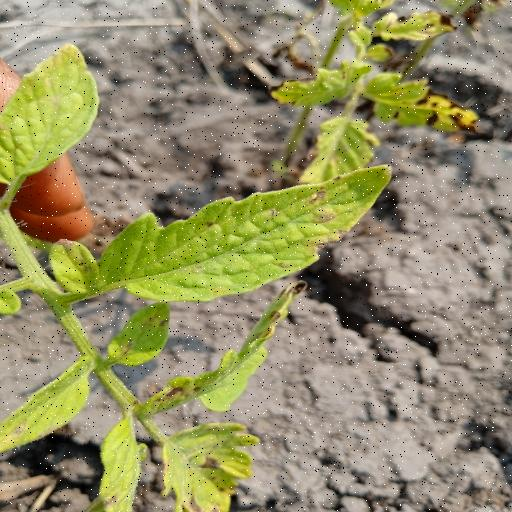Tomato_Brown_Spots: (58, 164, 400, 306), (158, 428, 272, 512)
